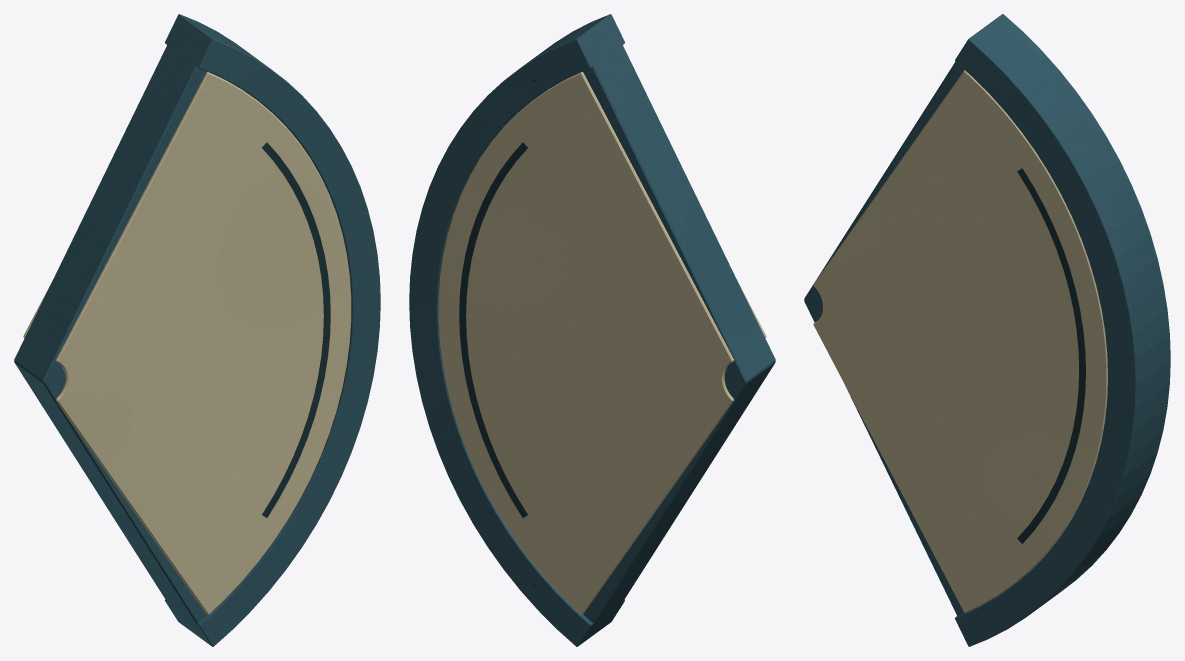
Rendered from 02_圆形封堵件_120度单块.glb.
3 renders of one model, left to right at view 1: azimuth 30°, elevation 25°; view 2: azimuth 150°, elevation 25°; view 3: azimuth 330°, elevation 25°, orthographic.
Parts seen in each view (by area): view 1: Sector_0_Cream_Inset_-1, Sector_0_Structural_Body, Sector_0_Outer_Rim, Sector_0_Teal_Arc_-1; view 2: Sector_0_Cream_Inset_1, Sector_0_Structural_Body, Sector_0_Outer_Rim, Sector_0_Teal_Arc_1; view 3: Sector_0_Cream_Inset_-1, Sector_0_Outer_Rim, Sector_0_Structural_Body, Sector_0_Teal_Arc_-1.
Boxes of the visible parts, box(x1,y1,x2,y2) form: Sector_0_Cream_Inset_-1: box(56, 72, 351, 614); Sector_0_Structural_Body: box(14, 16, 280, 643); Sector_0_Outer_Rim: box(165, 14, 380, 646); Sector_0_Teal_Arc_-1: box(262, 142, 330, 517); Sector_0_Cream_Inset_1: box(438, 72, 733, 614); Sector_0_Structural_Body: box(509, 16, 775, 643); Sector_0_Outer_Rim: box(409, 14, 624, 646); Sector_0_Teal_Arc_1: box(459, 142, 527, 517); Sector_0_Cream_Inset_-1: box(813, 70, 1107, 612); Sector_0_Outer_Rim: box(955, 14, 1170, 646); Sector_0_Structural_Body: box(804, 16, 1167, 615); Sector_0_Teal_Arc_-1: box(1017, 168, 1085, 543).
Bounding box in the file's own units: 0.998 × 1.73 × 0.1803.
Materials: 6 (6 with a texture image).
